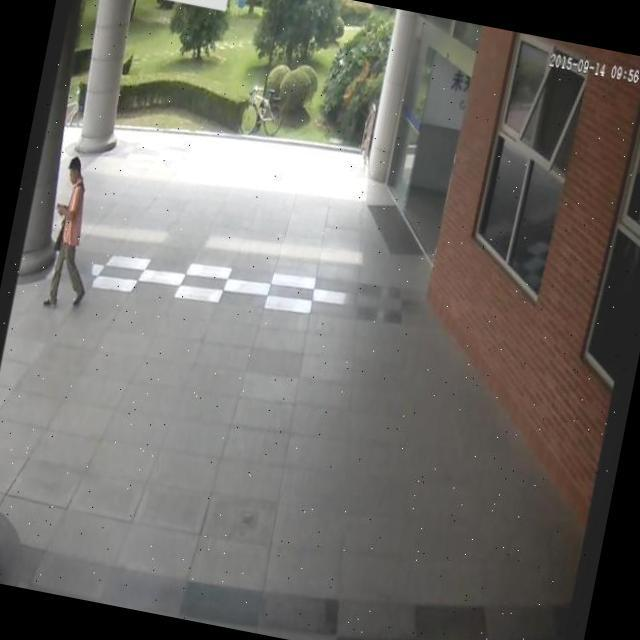person: (27, 132, 118, 334)
